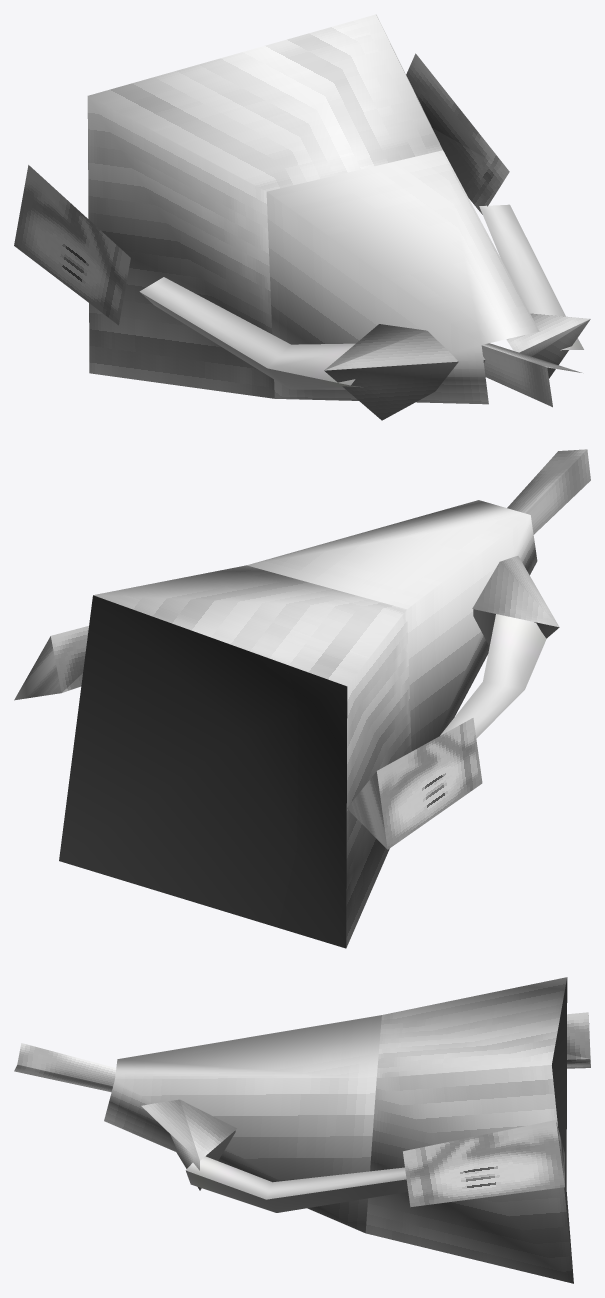
Rendered from torso_ld_250.glb.
3 renders of one model, top to bottom at view 1: azimuth 30°, elevation 25°; view 2: azimuth 150°, elevation 25°; view 3: azimuth 270°, elevation 25°, orthographic. The views are drawn at different scales.
Parts seen in each view (by area): view 1: torso-bot, torso-top, hands (×2), arms, sleeves, neck; view 2: torso-bot, torso-top, hands (×2), arms, sleeves, neck; view 3: torso-bot, torso-top, hands (×2), arms, sleeves, neck.
Part boxes in pixels (x1=…): torso-bot: x1=87, y1=14, x2=442, y2=398; torso-top: x1=266, y1=150, x2=539, y2=404; hands (×2): x1=14, y1=53, x2=509, y2=325; arms: x1=139, y1=204, x2=583, y2=389; sleeves: x1=324, y1=313, x2=590, y2=420; neck: x1=481, y1=343, x2=581, y2=407; torso-bot: x1=59, y1=565, x2=411, y2=948; torso-top: x1=247, y1=500, x2=537, y2=751; hands (×2): x1=14, y1=626, x2=482, y2=849; arms: x1=440, y1=614, x2=546, y2=738; sleeves: x1=472, y1=556, x2=559, y2=646; neck: x1=507, y1=449, x2=590, y2=534; torso-bot: x1=365, y1=977, x2=573, y2=1283; torso-top: x1=104, y1=1015, x2=381, y2=1233; hands (×2): x1=403, y1=1012, x2=590, y2=1207; arms: x1=185, y1=1156, x2=408, y2=1212; sleeves: x1=141, y1=1099, x2=236, y2=1190; neck: x1=14, y1=1043, x2=116, y2=1092.
Size of the model in its own units: 2.12 by 1.47 by 3.37.
Materials: 6 (6 with a texture image).
